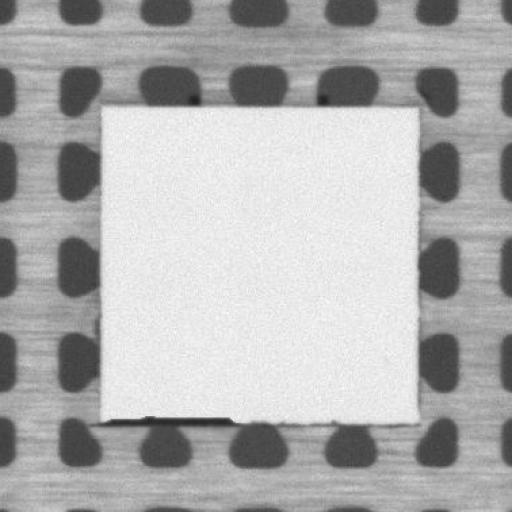DIE_BROKEN: (96, 406, 244, 426)
